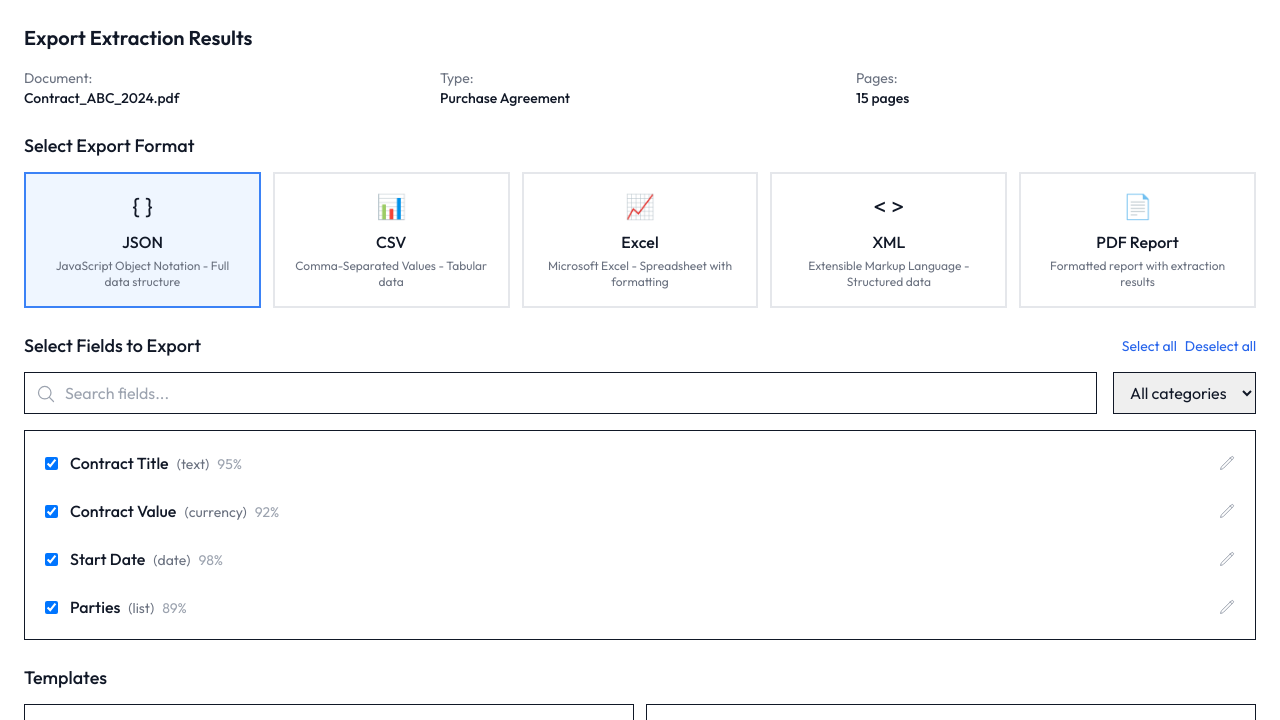
it: ExtractionExport › Format Selection › should show format-specific options
Click the button with test id "format-csv".
click(391, 240)  # box [273,172,510,308]
(page scrolled)
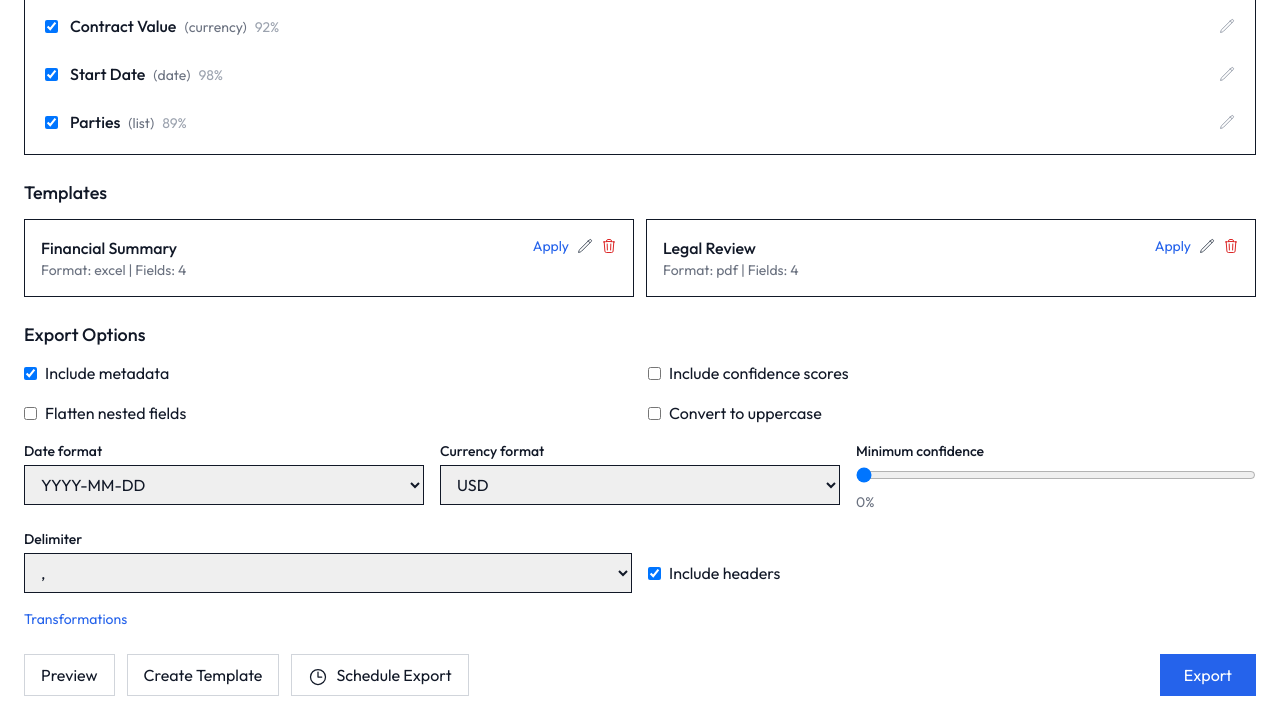
Expected: the dropdown labelled "Delimiter" is shown, [24,553,632,593]
Expected: the checkbox labelled "Include headers" is shown, [648,567,661,580]
